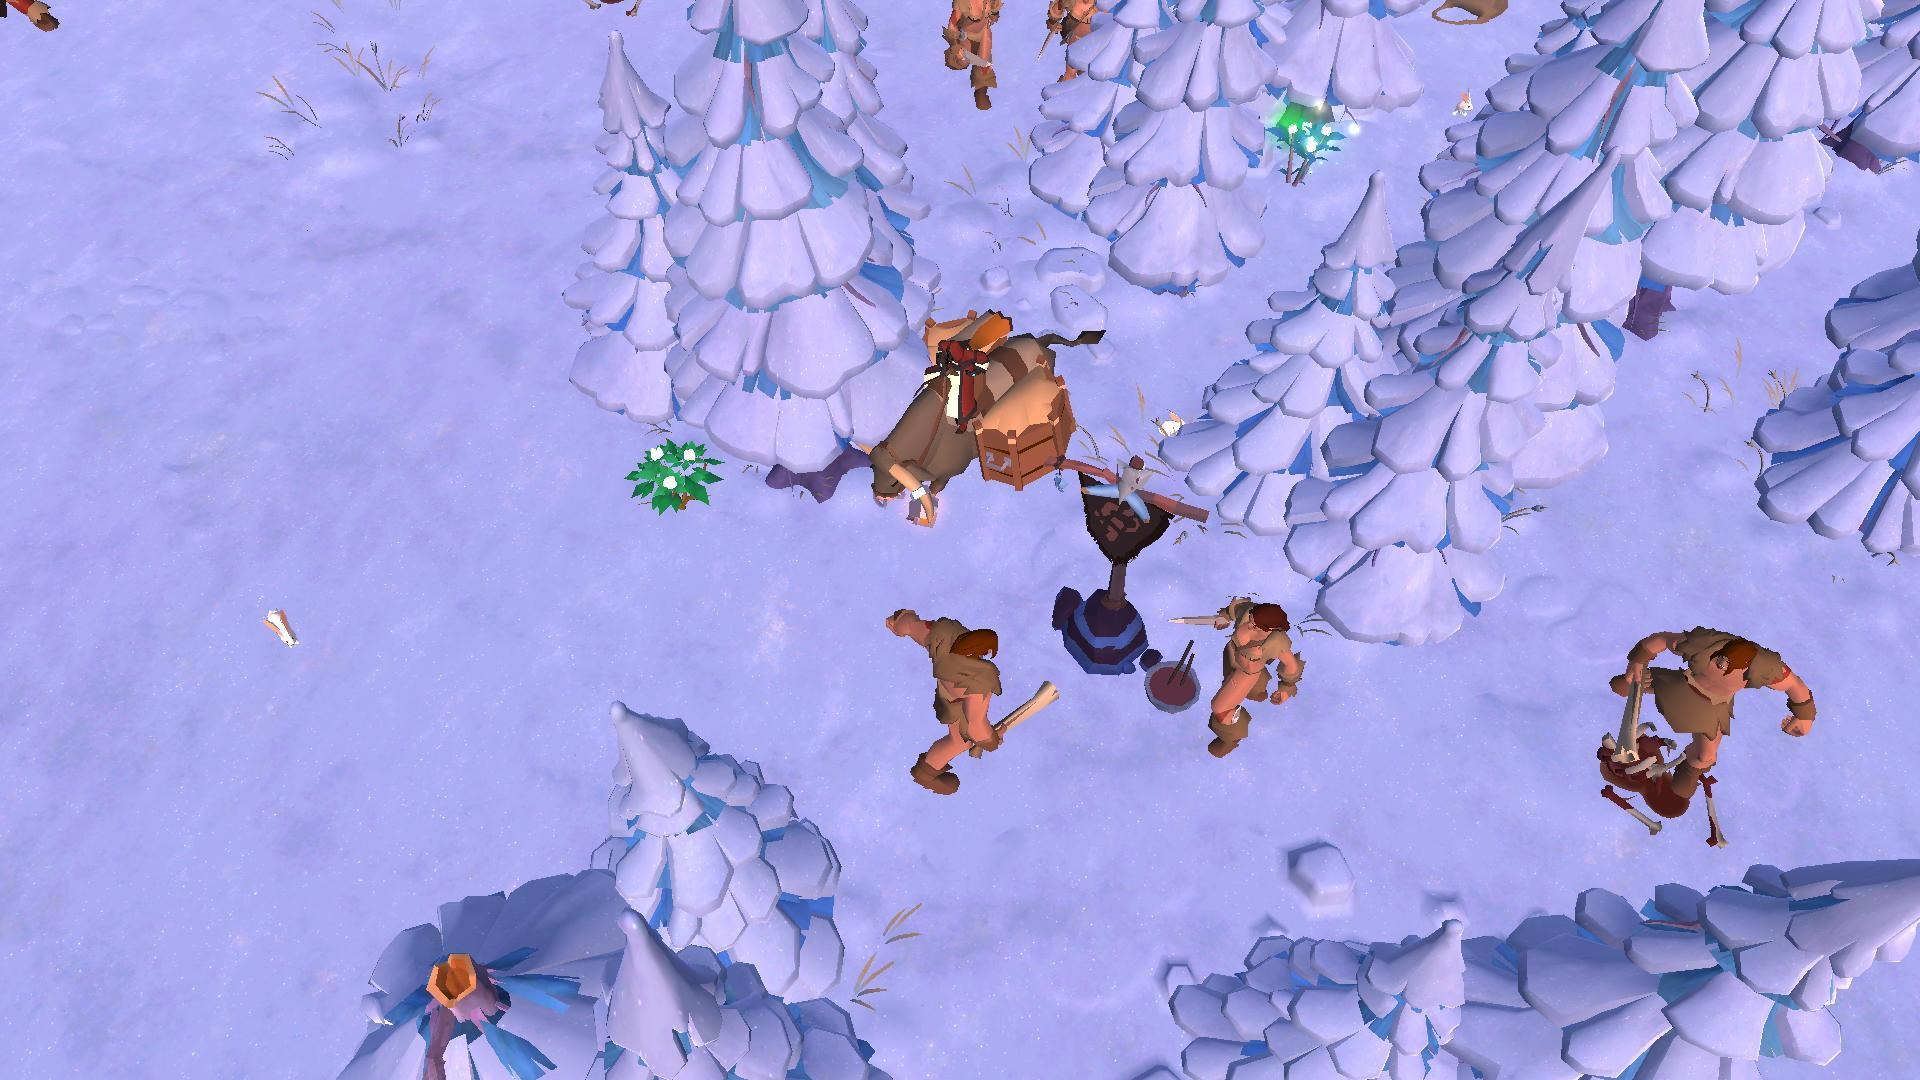enemy_factionKeeper: (1605, 622, 1815, 808), (869, 601, 1054, 798), (1196, 592, 1303, 758), (934, 0, 997, 115), (1039, 0, 1118, 88)
fiber_t3: (621, 435, 721, 517)
fiber_t4: (1267, 109, 1352, 193)
